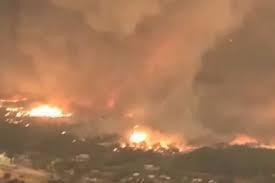fire: (121, 122, 194, 160), (25, 101, 72, 119), (235, 133, 268, 149)
